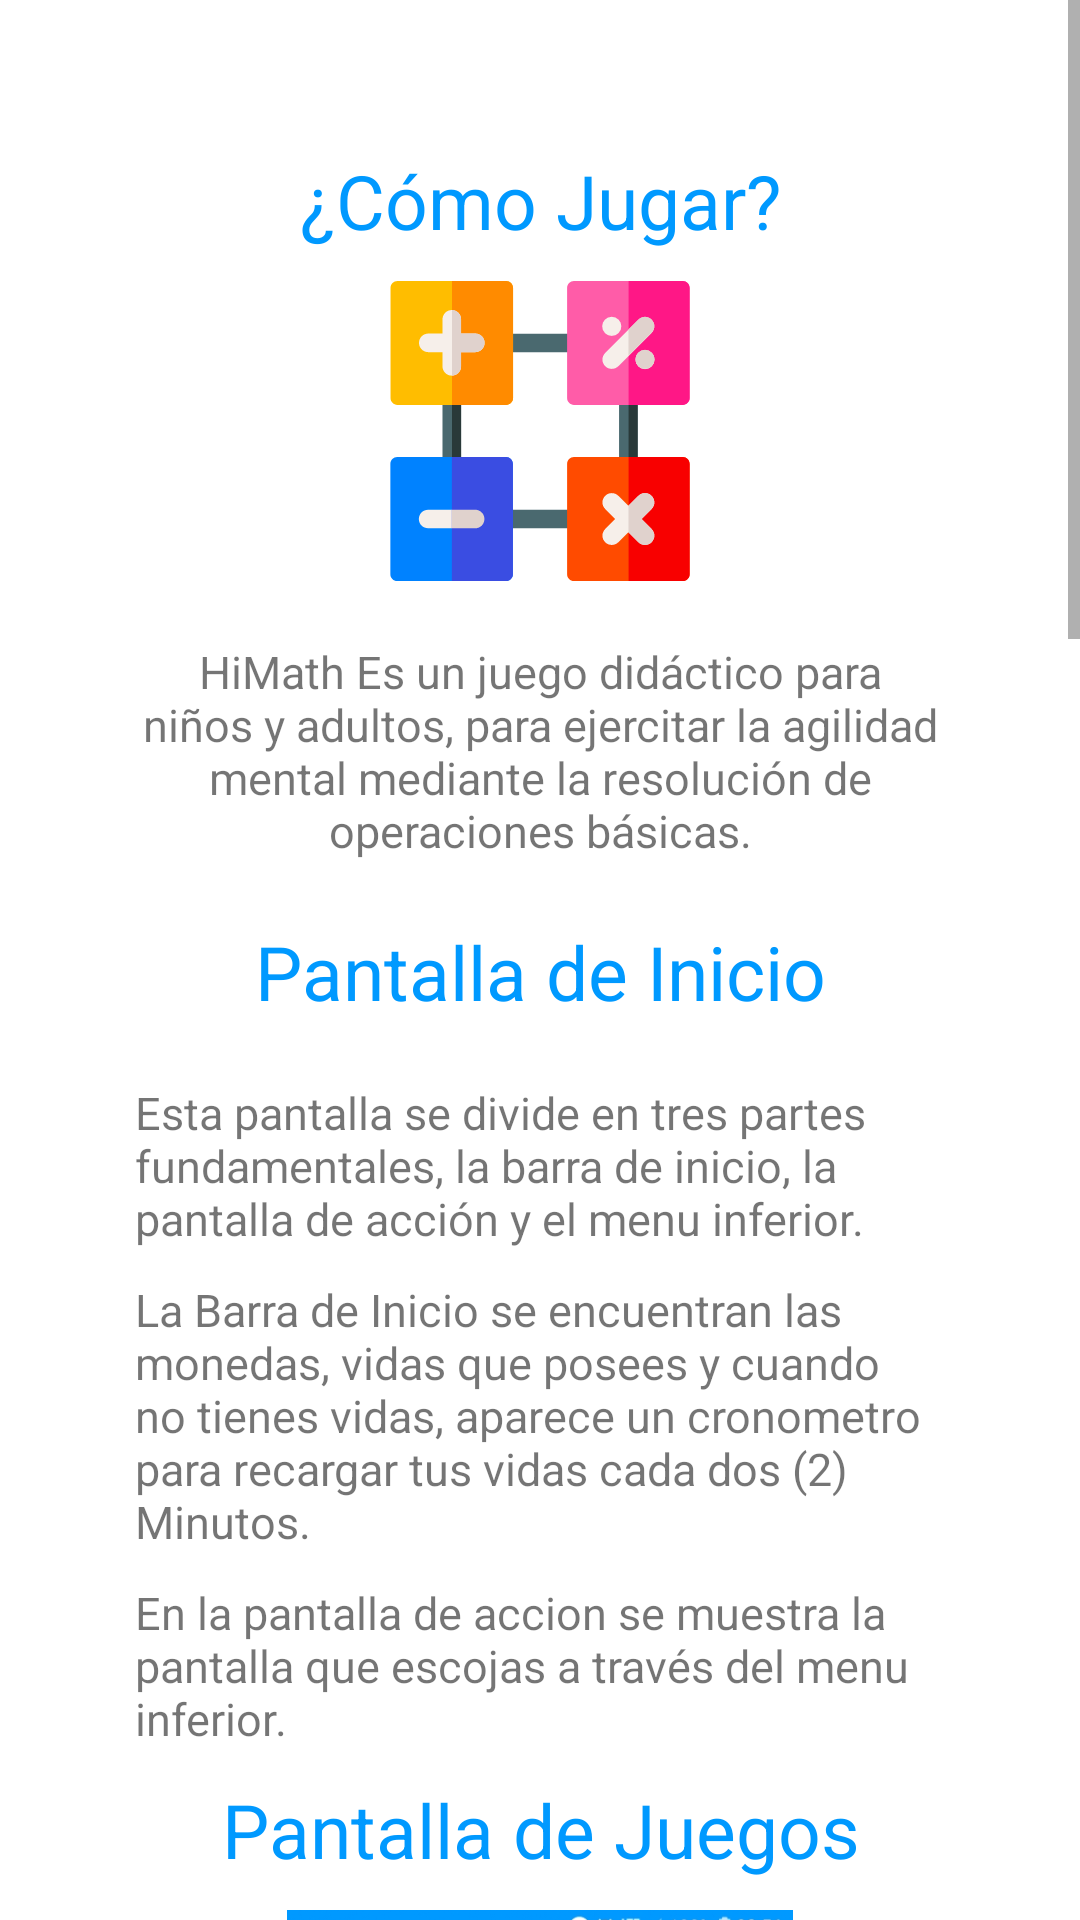

Icon bounding boxes for this 1080×1920 phone screenshot, format (x1, y1, x2, y2):
maths: (390, 281, 690, 581)
